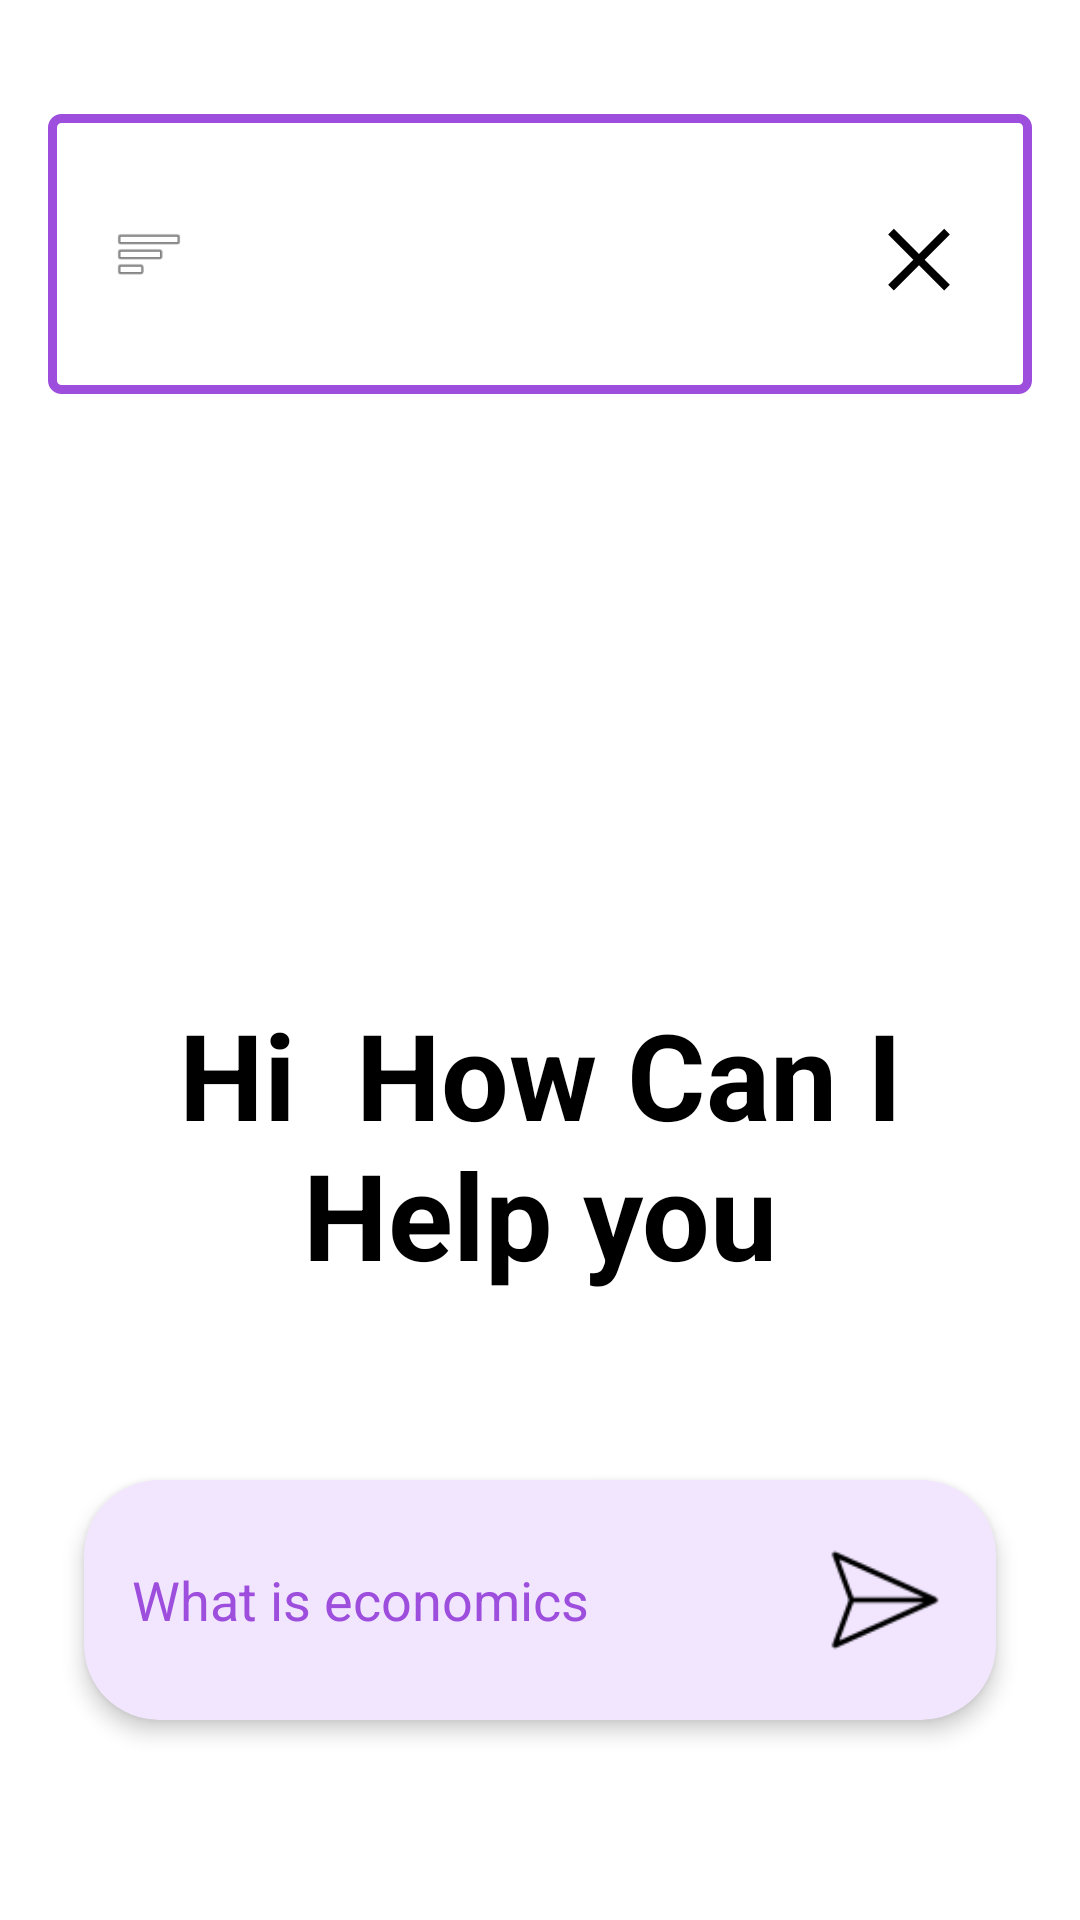

Screen size 1080×1920. Icon name, then its box in pixels as (x1, y1, x2, y2):
closebutton: (888, 229, 950, 291)
sendbtn: (831, 1550, 939, 1649)
sort by size: (118, 234, 180, 275)
